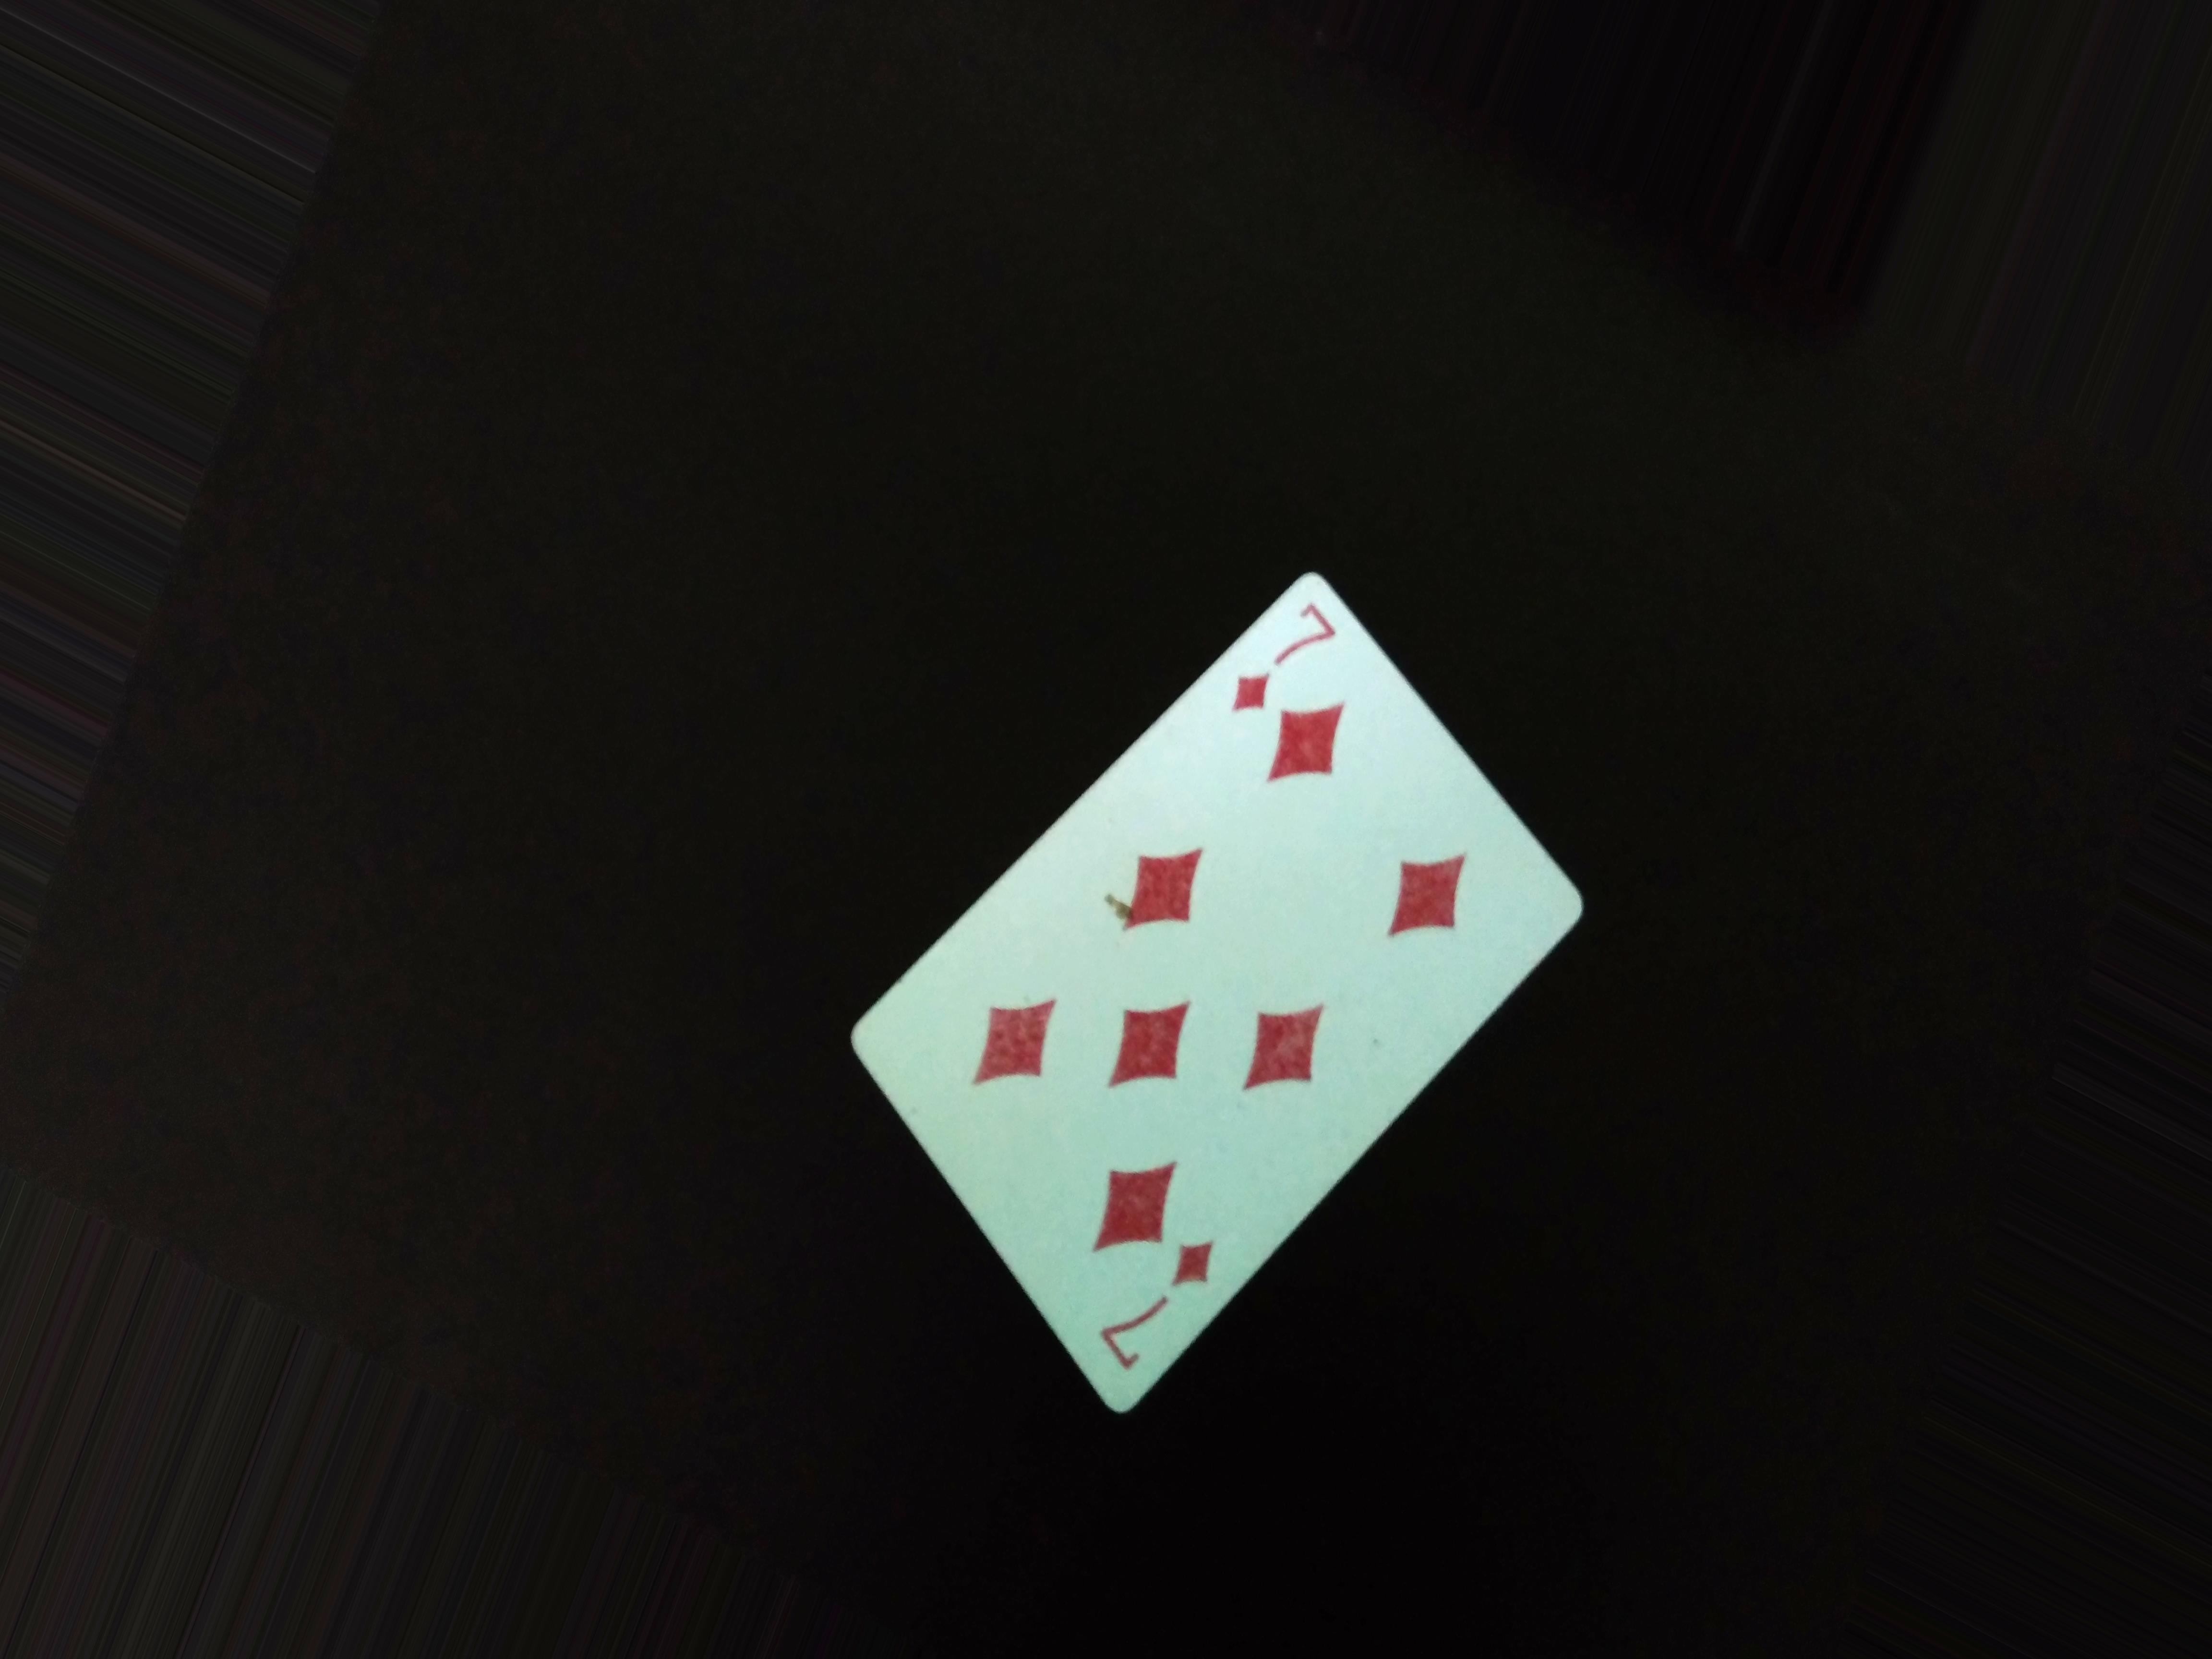7D: (1226, 586, 1343, 725)
